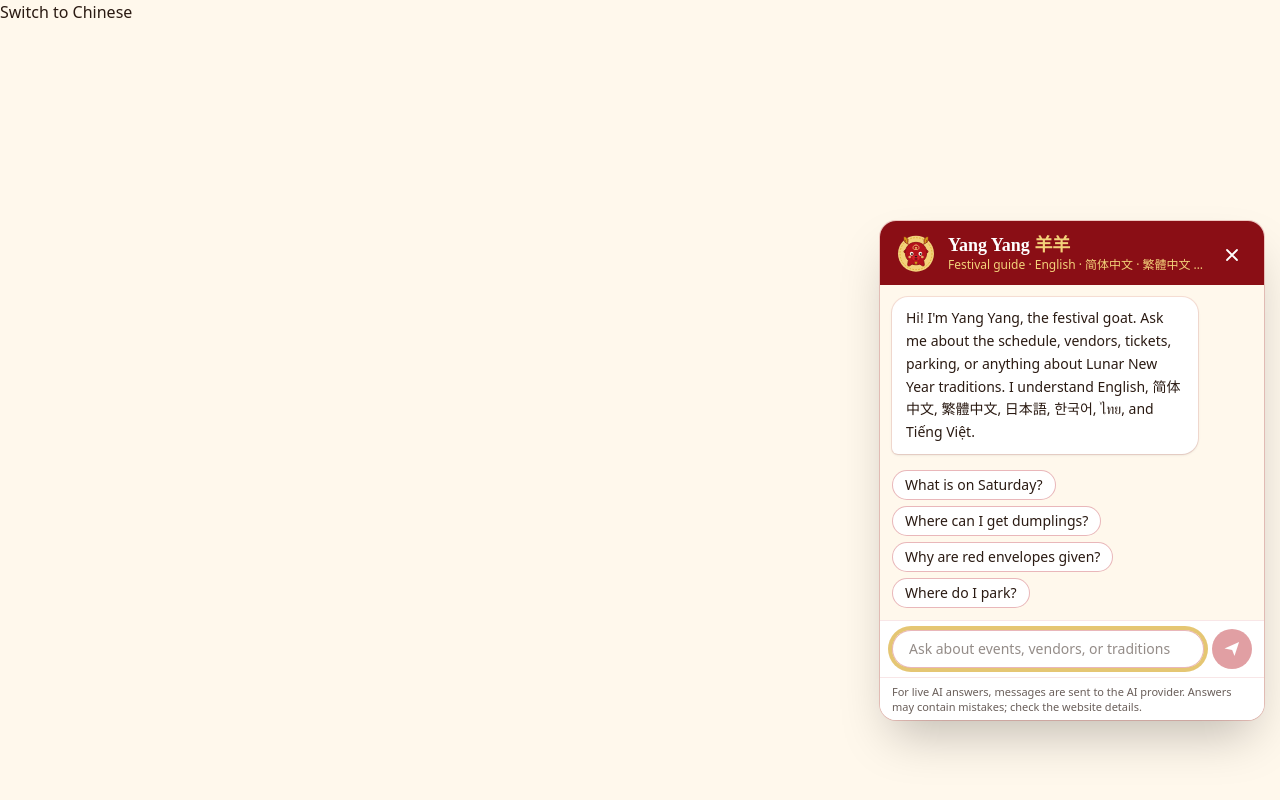
it: chat panel source-of-truth and recovery › aborts a pending answer on clear and does not append a late provider reply
In the field with test id "chat-input": (1048, 649) [892,630,1204,668], type "Explain Chinese new year traditions"
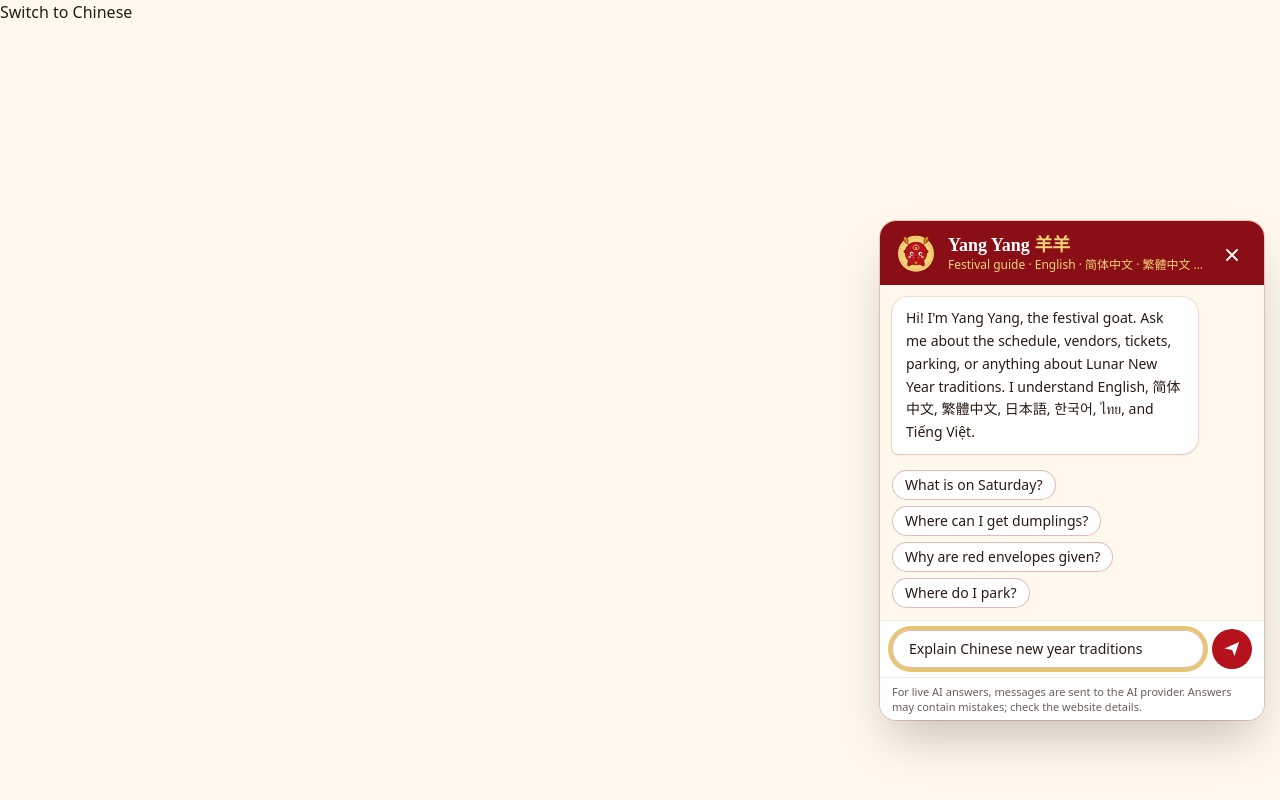
Click the button with test id "chat-send": (1232, 649) [1212,629,1252,669]
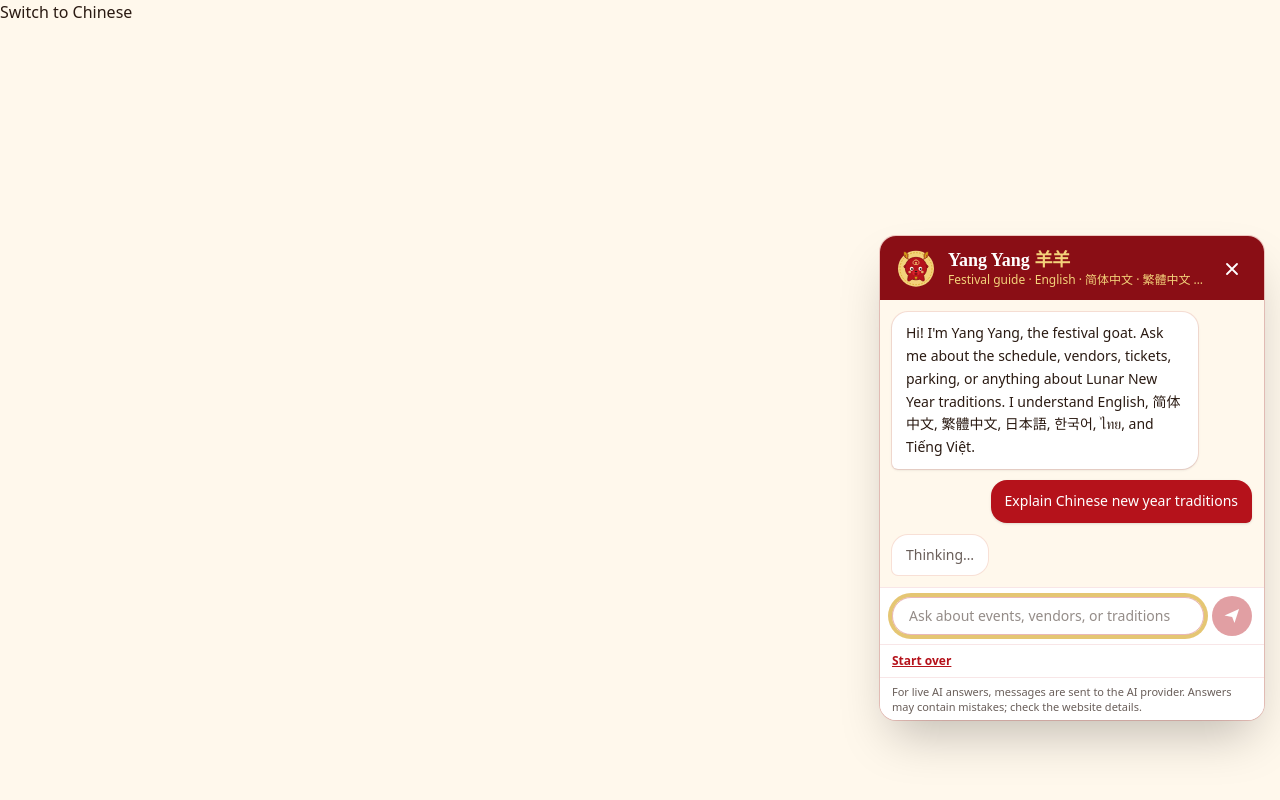
Click the button with test id "chat-clear": (922, 660) [880,644,1264,677]
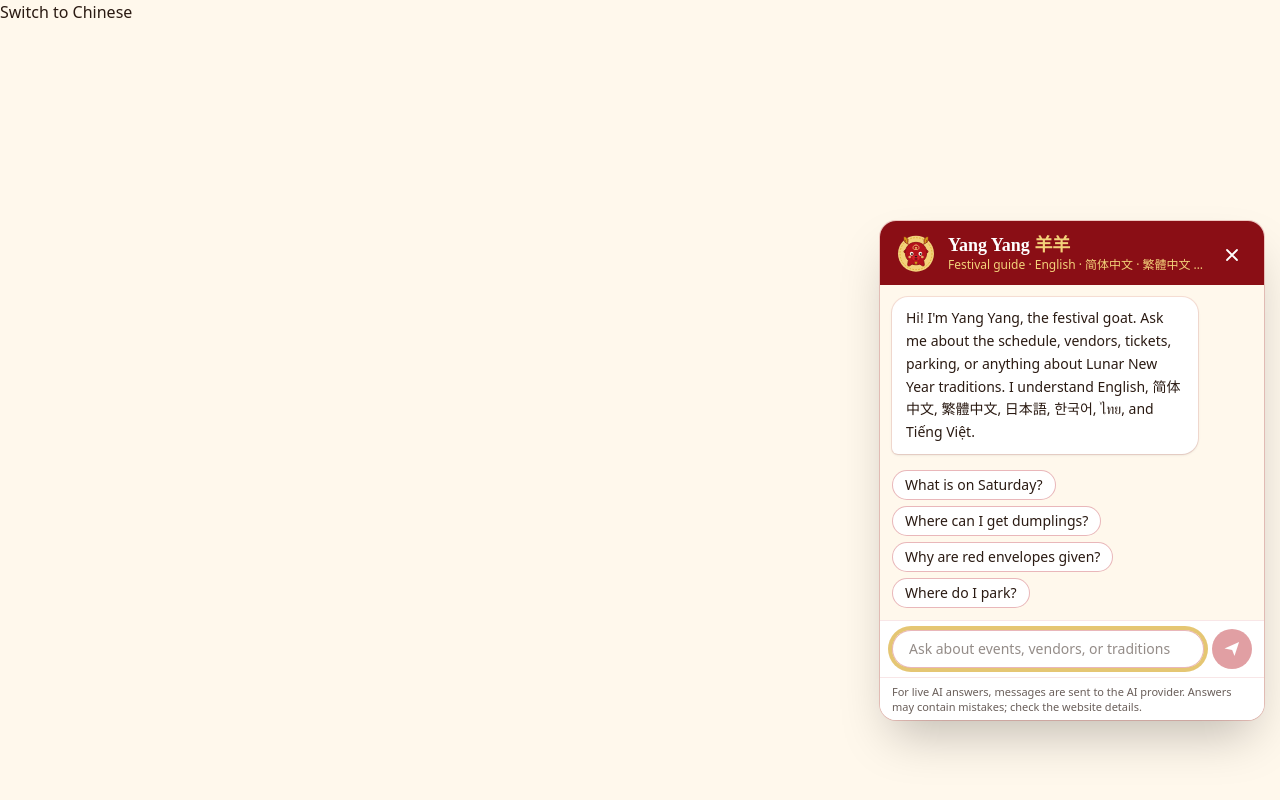
expect the number of elements with test id "chat-bot" is 1: met, box [892,297,1198,454]
expect the message "Thinking…" is gone: met
